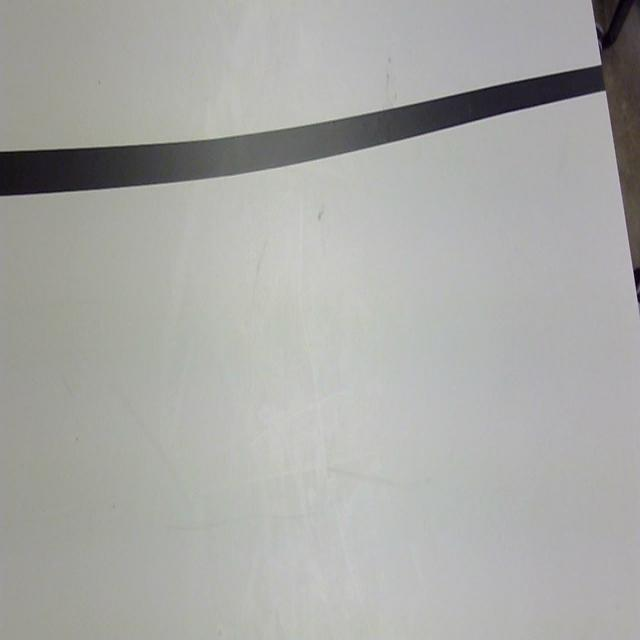tape: (0, 49, 612, 212)
